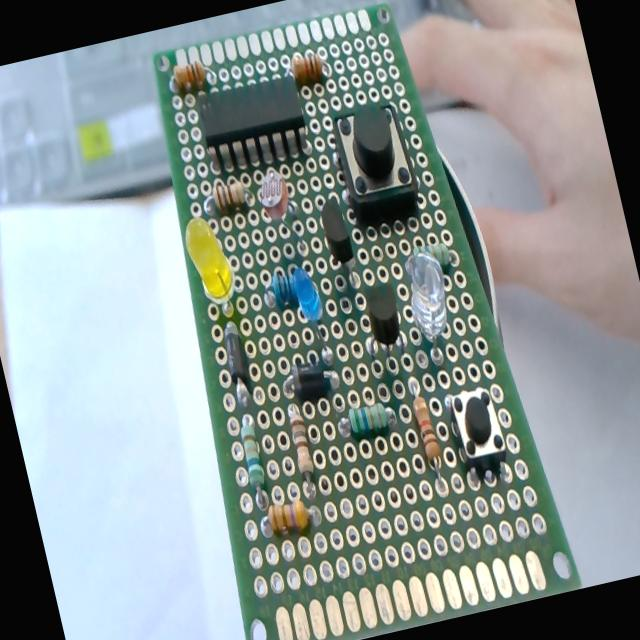IC: (194, 72, 313, 175)
cds: (254, 166, 294, 222)
diode: (218, 318, 255, 399), (284, 356, 338, 404)
led: (180, 212, 243, 324), (399, 246, 458, 350), (288, 264, 332, 354)
resistor: (408, 388, 448, 488), (282, 404, 320, 498), (236, 418, 270, 501), (258, 262, 316, 308), (266, 496, 312, 536), (210, 174, 248, 214), (347, 401, 389, 436), (412, 236, 451, 272), (172, 58, 209, 93), (290, 49, 324, 86)
switch: (326, 95, 424, 231), (445, 383, 513, 485)
transistor: (358, 270, 411, 369), (316, 193, 357, 269)
